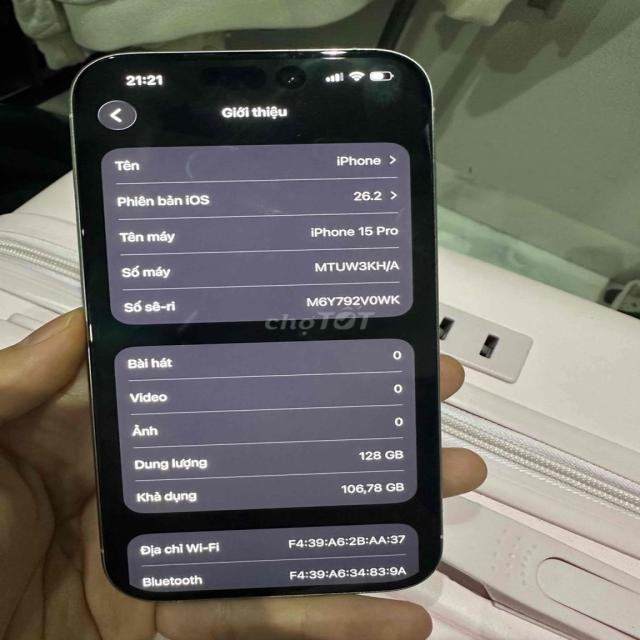gen_15: (45, 36, 452, 622)
scratch: (82, 319, 96, 347), (76, 223, 88, 239), (93, 545, 108, 554), (438, 533, 447, 543)
